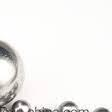ironball: (0, 33, 29, 106), (54, 95, 83, 111), (12, 101, 32, 111), (91, 105, 111, 111)
